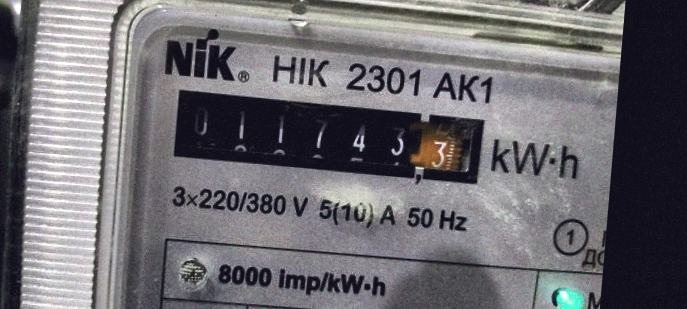0: (189, 101, 211, 139)
1: (272, 109, 289, 144), (235, 106, 248, 140)
3: (385, 122, 407, 158), (428, 137, 449, 172)
4: (348, 119, 368, 154)
7: (309, 114, 330, 150)
screen: (157, 76, 498, 197)
